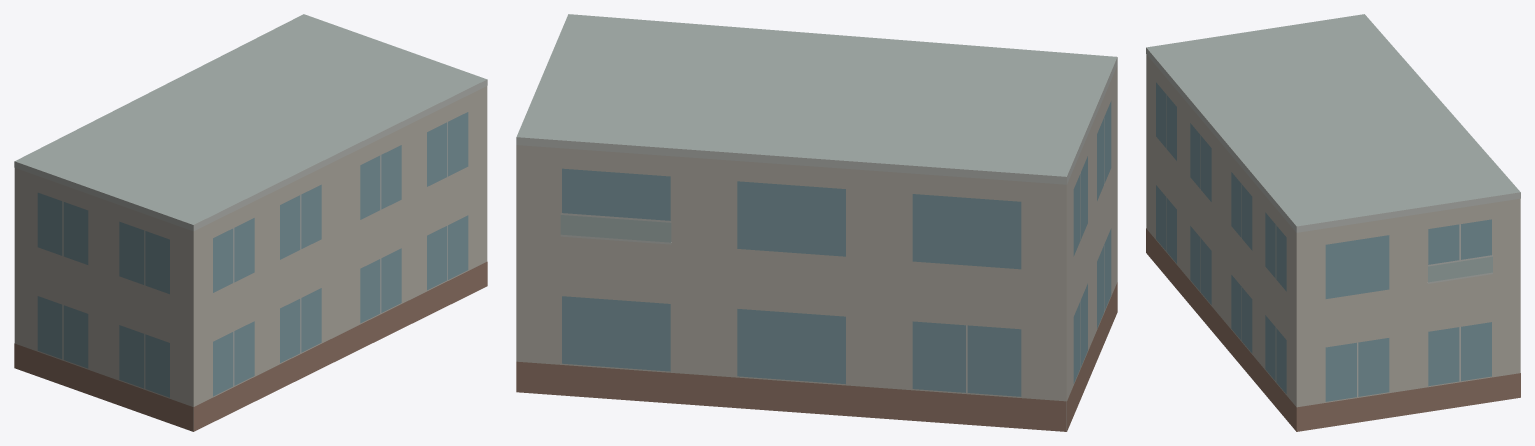
The model's file is survey-upis-32842322.glb.
3 views of the same model, side by side, from view 1: azimuth 30°, elevation 25°; view 2: azimuth 150°, elevation 25°; view 3: azimuth 270°, elevation 25° (orthographic). The views are drawn at different scales.
Visible parts, largest first — view 1: survey-upis-32842322.tmp; view 2: survey-upis-32842322.tmp; view 3: survey-upis-32842322.tmp.
Part boxes in pixels (<box>): survey-upis-32842322.tmp: <box>14,14,487,431</box>; survey-upis-32842322.tmp: <box>516,14,1117,431</box>; survey-upis-32842322.tmp: <box>1146,14,1520,431</box>.
Size of the model in its own units: 17.54 by 7.9 by 13.07.
